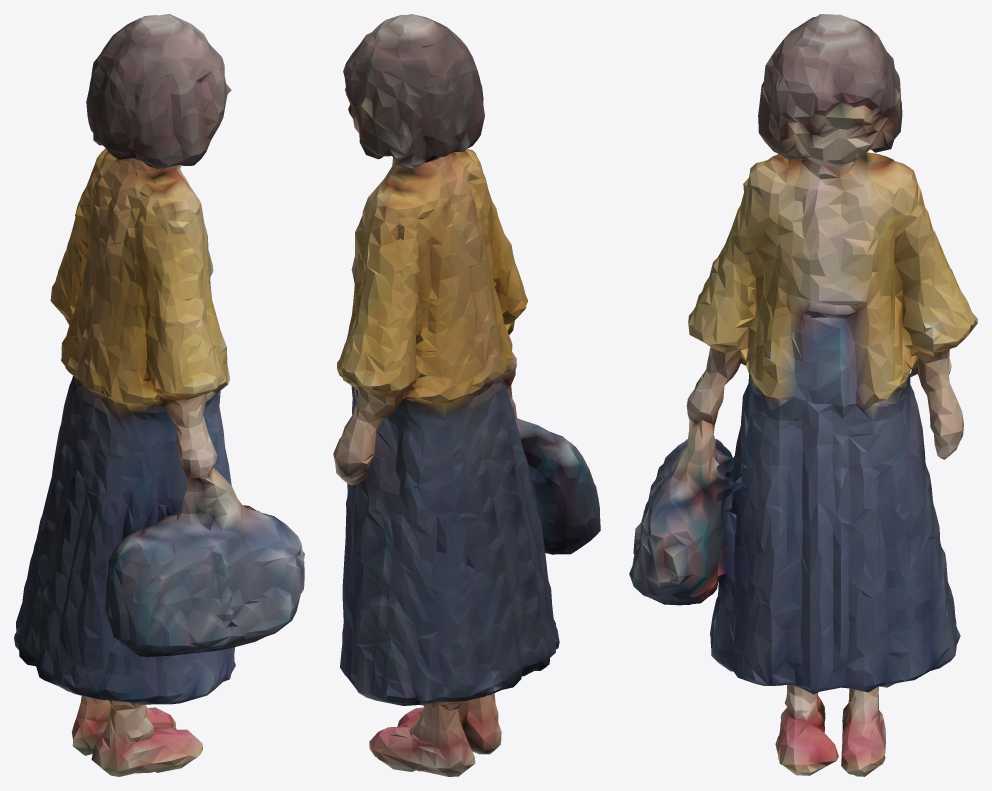
The model's file is npc-airport-traveler.glb.
3 renders of one model, left to right at view 1: azimuth 30°, elevation 25°; view 2: azimuth 150°, elevation 25°; view 3: azimuth 270°, elevation 25°, orthographic. The views are drawn at different scales.
Parts seen in each view (by area): view 1: world; view 2: world; view 3: world.
Part boxes in pixels (x1,y1,x2,y2): world: (14,14,304,776); world: (333,14,600,776); world: (629,14,977,776).
Size of the model in its own units: 0.2722 by 0.9827 by 0.4125.
